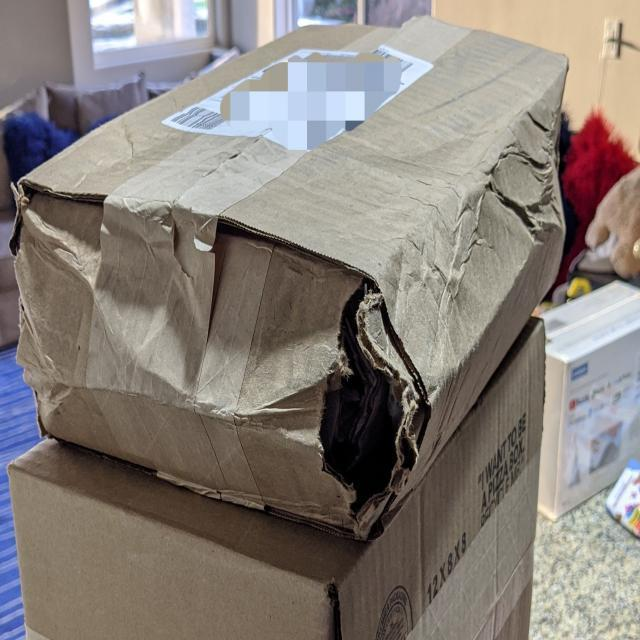hole: (310, 269, 428, 533)
